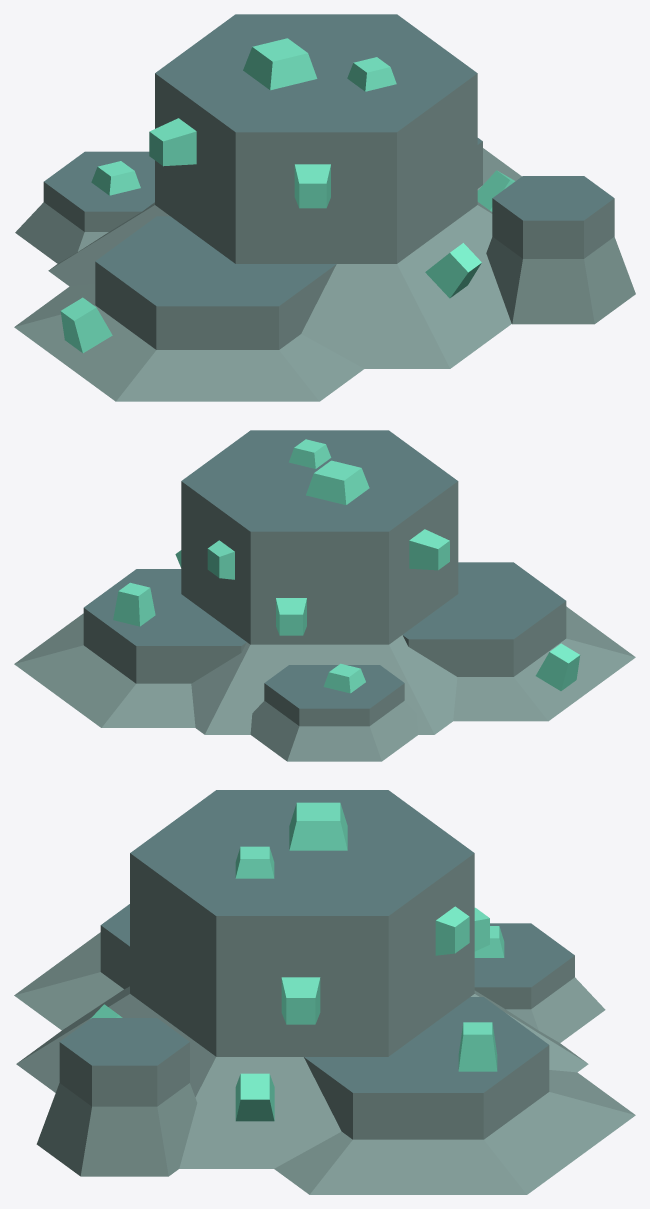
File: rock_crystals.glb
3 renders of one model, top to bottom at view 1: azimuth 30°, elevation 25°; view 2: azimuth 150°, elevation 25°; view 3: azimuth 270°, elevation 25°, orthographic. The views are drawn at different scales.
Visible parts, largest first — view 1: rock_crystals; view 2: rock_crystals; view 3: rock_crystals.
Part boxes in pixels (left/top/right/bottom): rock_crystals: left=14, top=14, right=635, bottom=401; rock_crystals: left=14, top=430, right=635, bottom=761; rock_crystals: left=14, top=790, right=635, bottom=1194.
Bounding box in the file's own units: 0.8509 × 0.3375 × 0.8015.
